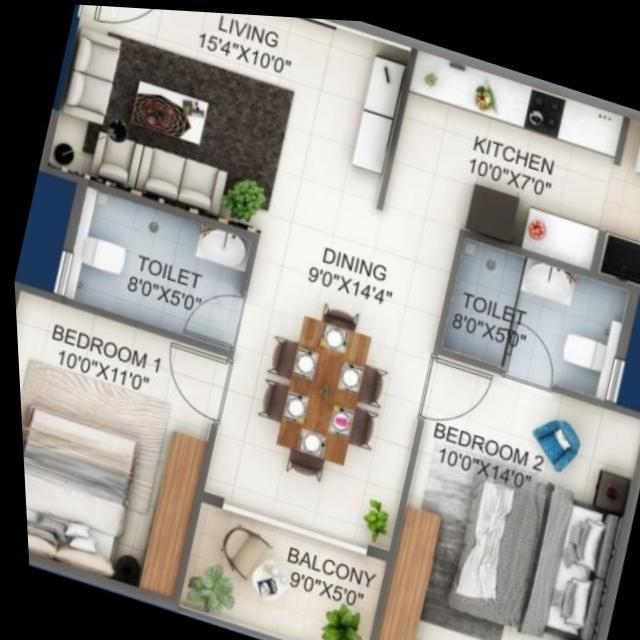Balcony-Sitout: (171, 499, 380, 640)
Bedroom: (13, 291, 223, 599)
Bedroom with Toilet: (366, 227, 640, 640)
Dining: (235, 276, 398, 503)
Enterance-Foyer: (85, 4, 172, 44)
Kitchen: (381, 45, 622, 263)
Living: (44, 4, 410, 266)
Toilet: (60, 186, 250, 347), (438, 232, 626, 393)
Utility: (593, 111, 640, 280)
